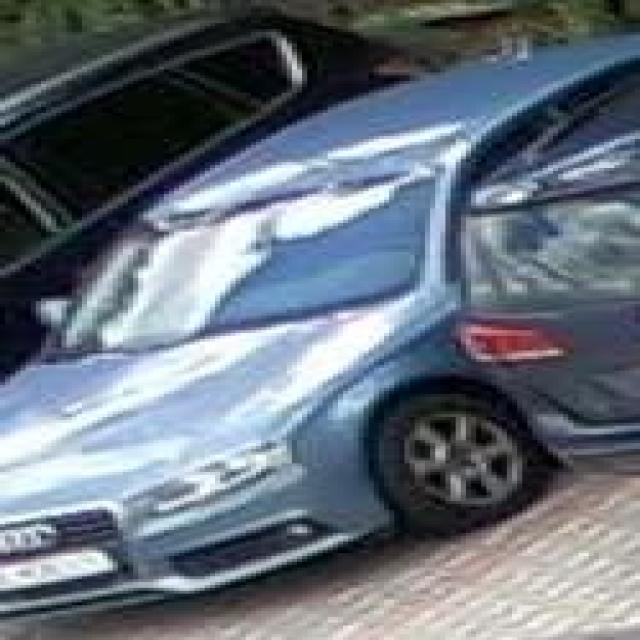Car: (85, 157, 442, 595), (490, 147, 640, 480), (0, 1, 319, 137)
